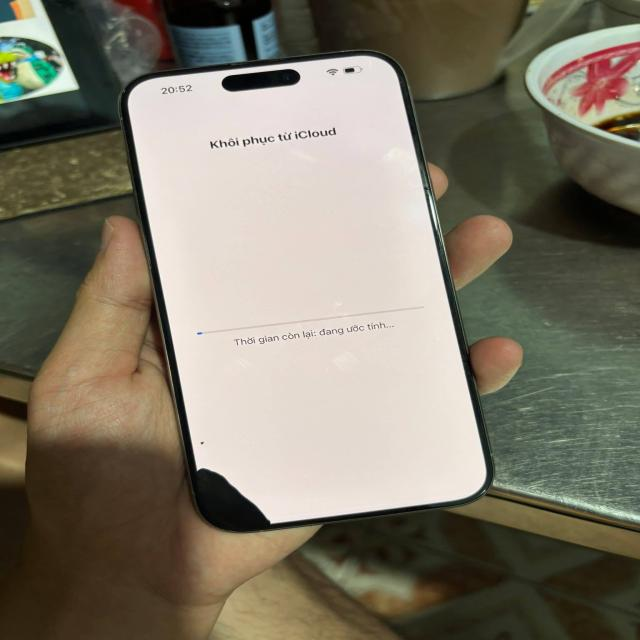gen_14: (121, 48, 497, 531)
screen_defect: (195, 466, 271, 530), (198, 438, 205, 446)
